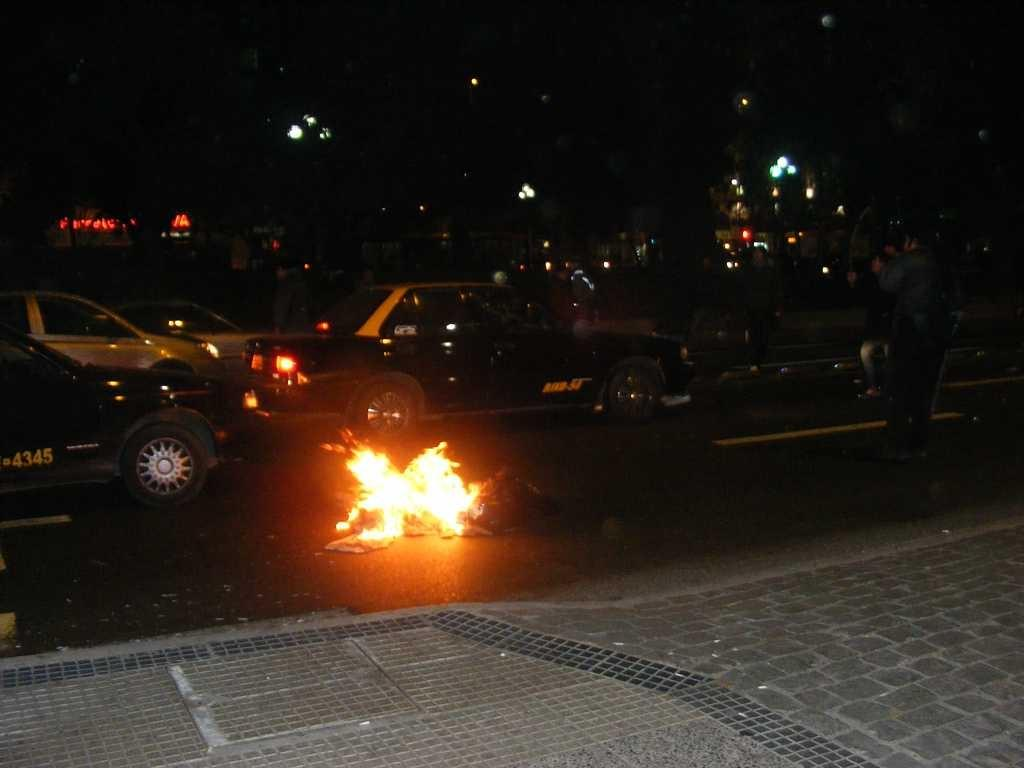fire: (362, 464, 464, 518)
